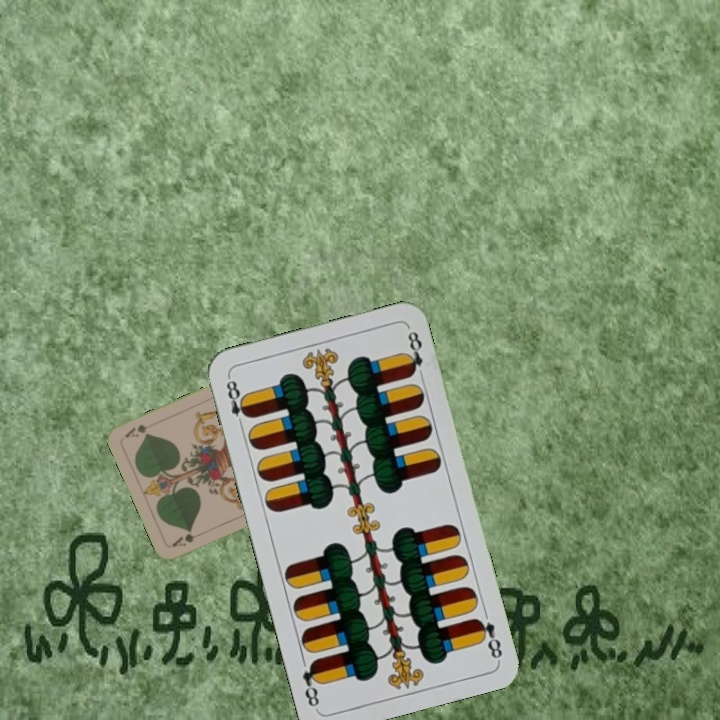E8: (222, 373, 253, 431), (471, 614, 505, 662)
GA: (168, 529, 197, 550)
